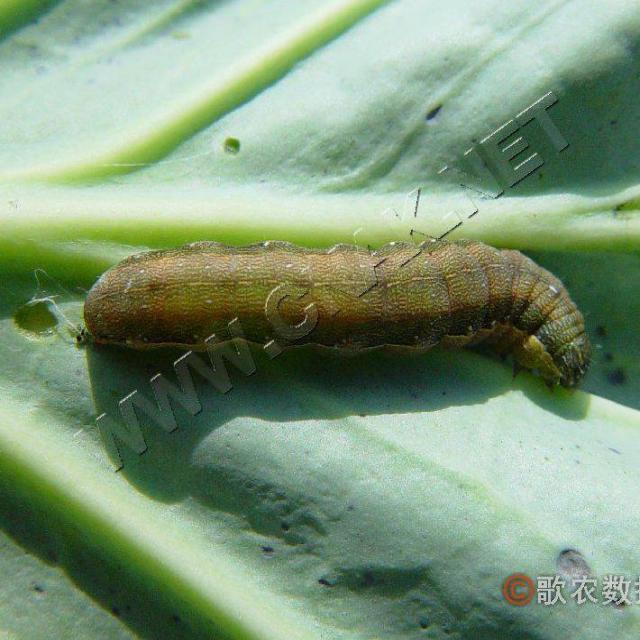BeetArmyWorm-Larva-: (81, 235, 601, 397)
